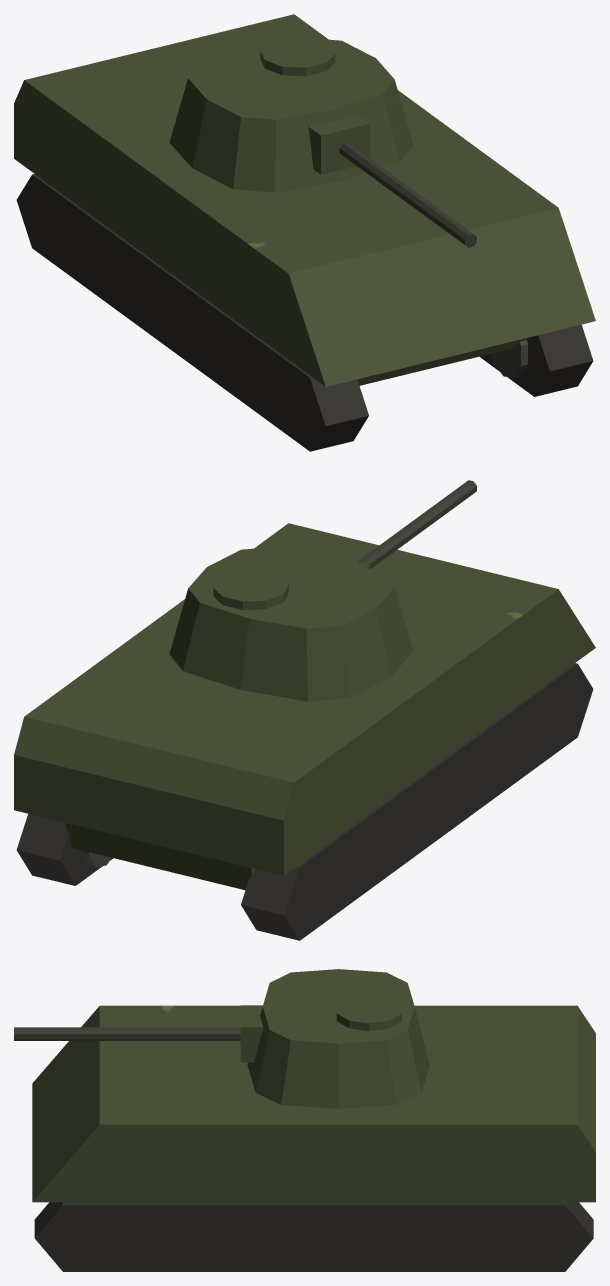
The model's file is light_tank.obj.
3 views of the same model, one above another, from view 1: azimuth 30°, elevation 25°; view 2: azimuth 150°, elevation 25°; view 3: azimuth 270°, elevation 25° (orthographic). The views are drawn at different scales.
Parts seen in each view (by area): view 1: hull, tracks, $turret, $gun; view 2: hull, tracks, $turret, $gun; view 3: hull, tracks, $turret, $gun.
Part boxes in pixels (box(x1,y1,x2,y2)): hull: box(14, 14, 595, 386); tracks: box(16, 174, 593, 451); $turret: box(169, 36, 413, 192); $gun: box(308, 114, 476, 247); hull: box(14, 523, 595, 890); tracks: box(16, 663, 593, 940); $turret: box(169, 547, 413, 701); $gun: box(319, 480, 476, 568); hull: box(32, 1005, 595, 1202); tracks: box(34, 1202, 593, 1271); $turret: box(247, 969, 429, 1108); $gun: box(14, 1005, 263, 1062).
Bounding box in the file's own units: 2.3 × 1.93 × 4.75.
1 material, 1 textured.
